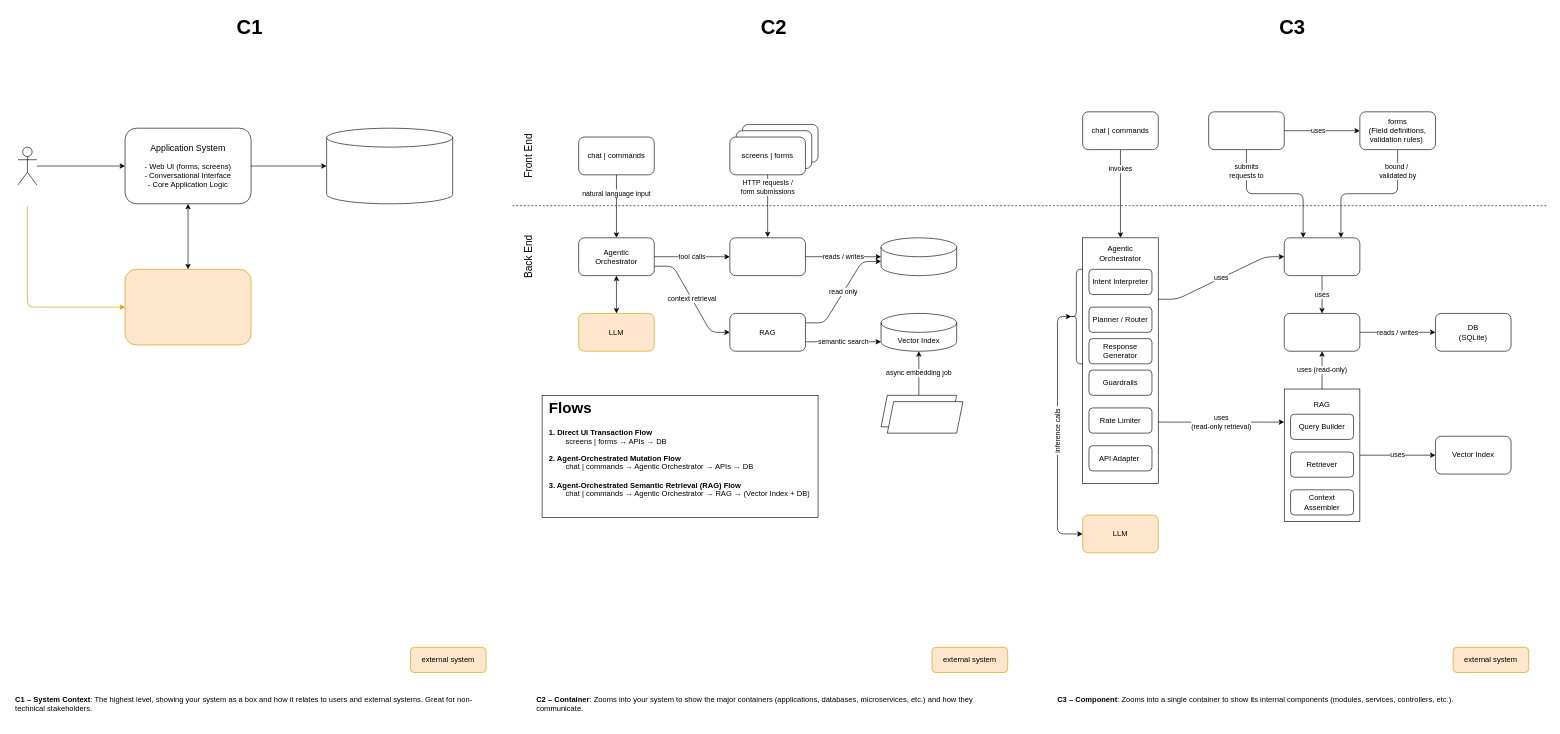
The diagram is 1560 pixels wide and 734 high, and some of its shapes have lost their labels. The shapes that lost their labels are listed below. From the top down, each one's centre as x and y in pixels, then its label:
[1246,130]: templates (HTML, rendering, read-only + edit views)
[27,165]: User (Clinician)
[389,166]: Data Stores - Relational DB (SQLite) - Document Storage (files, scans)
[767,256]: APIs ( + external Apple API )
[918,256]: DB
[1322,256]: Blueprint API Controllers
[187,307]: Apple Calendar
[1322,332]: Models (SQLAlchemy)
[925,417]: Documents / Scans
